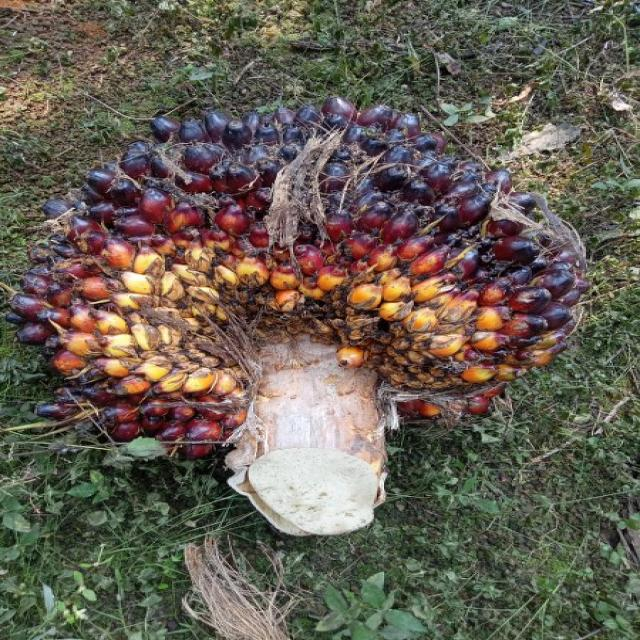fraksi 00: (25, 106, 583, 452)
